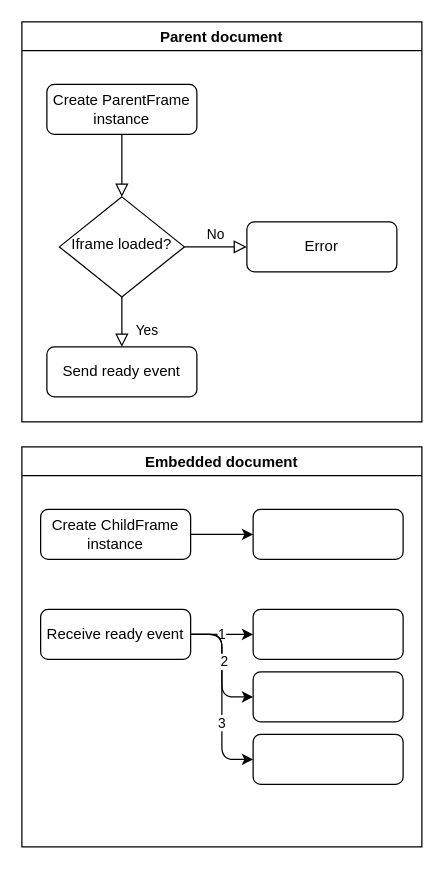
Some shapes in this 444 by 869 pixel diagram are drawn without their labels. The shapes that lost their labels are listed below. From the top down, each one's centre as x and y in pixels, then its label:
At (x=327, y=533): "Define subscriber callback".
At (x=327, y=633): "Register methods and listeners".
At (x=327, y=696): "Add 3rd party scripts".
At (x=327, y=758): "Fire subscriber callback".
